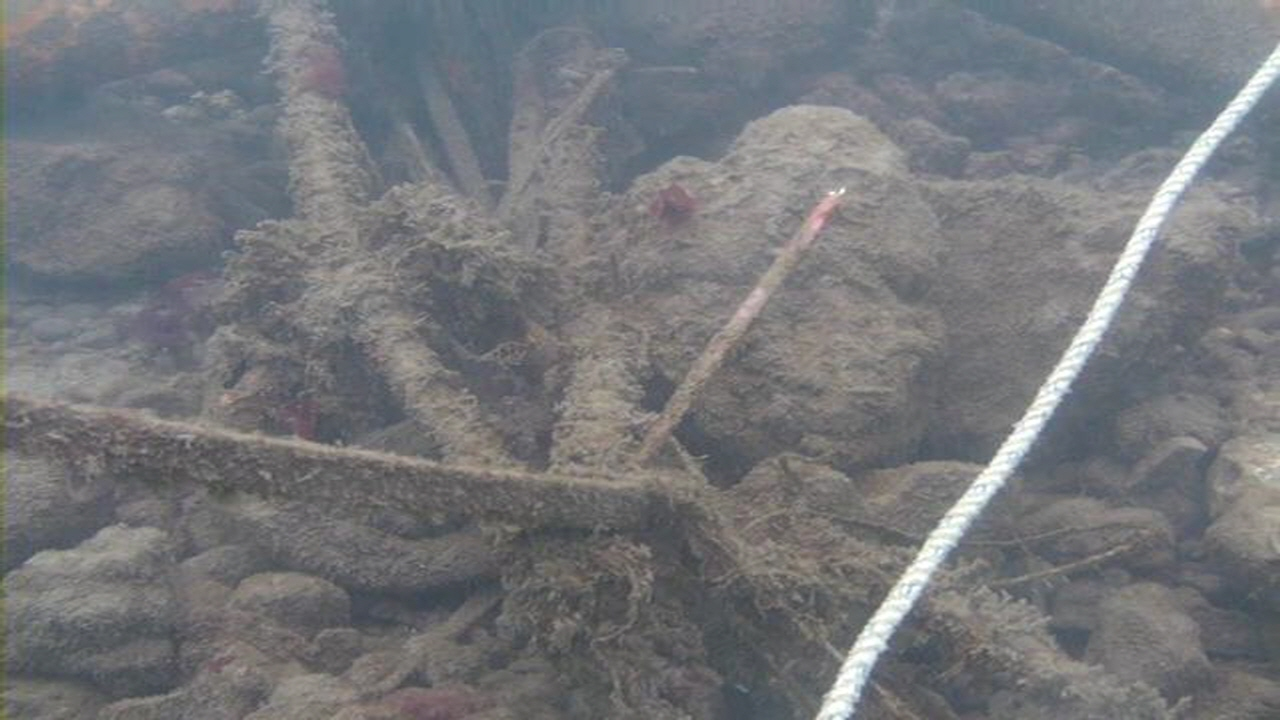rope: (815, 42, 1280, 720)
